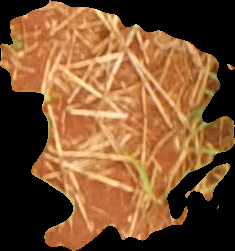soil: (1, 1, 232, 251)
